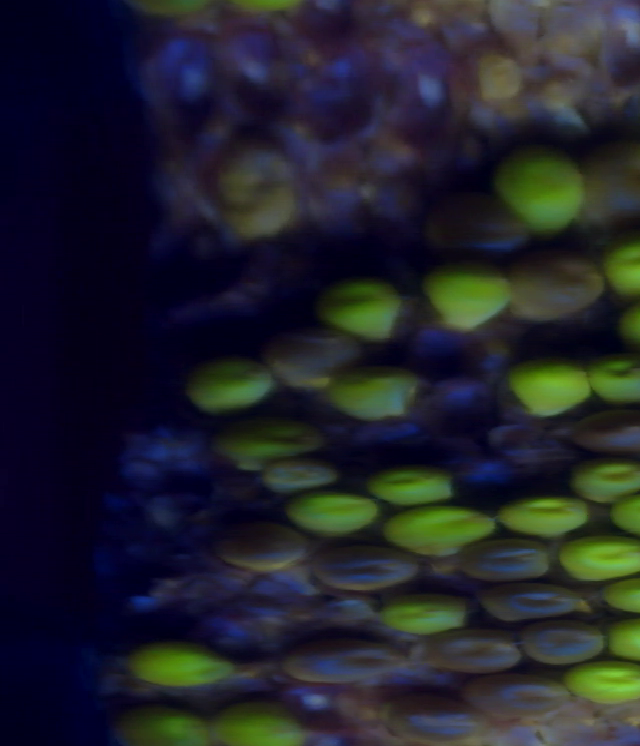fluorescent: (203, 140, 302, 250), (418, 262, 513, 330), (376, 501, 493, 549), (179, 356, 271, 416), (128, 640, 239, 685), (377, 584, 470, 637), (289, 484, 373, 540), (513, 150, 577, 223), (495, 488, 590, 533), (212, 701, 309, 745), (509, 358, 587, 411), (360, 460, 451, 505), (334, 278, 399, 339), (331, 369, 412, 417), (112, 705, 204, 746), (218, 429, 322, 463), (568, 658, 640, 705), (586, 360, 640, 410), (576, 456, 640, 498), (563, 537, 640, 571), (605, 234, 640, 294), (606, 617, 640, 660), (605, 576, 640, 608)
nonfluorescent: (505, 243, 603, 331), (284, 634, 409, 682), (309, 534, 418, 587), (361, 688, 482, 733), (216, 517, 306, 575), (267, 321, 345, 385), (409, 631, 524, 673), (473, 672, 571, 718), (589, 140, 640, 227), (467, 533, 557, 576), (571, 408, 640, 458), (487, 582, 577, 616), (258, 458, 338, 494), (525, 623, 602, 656)
